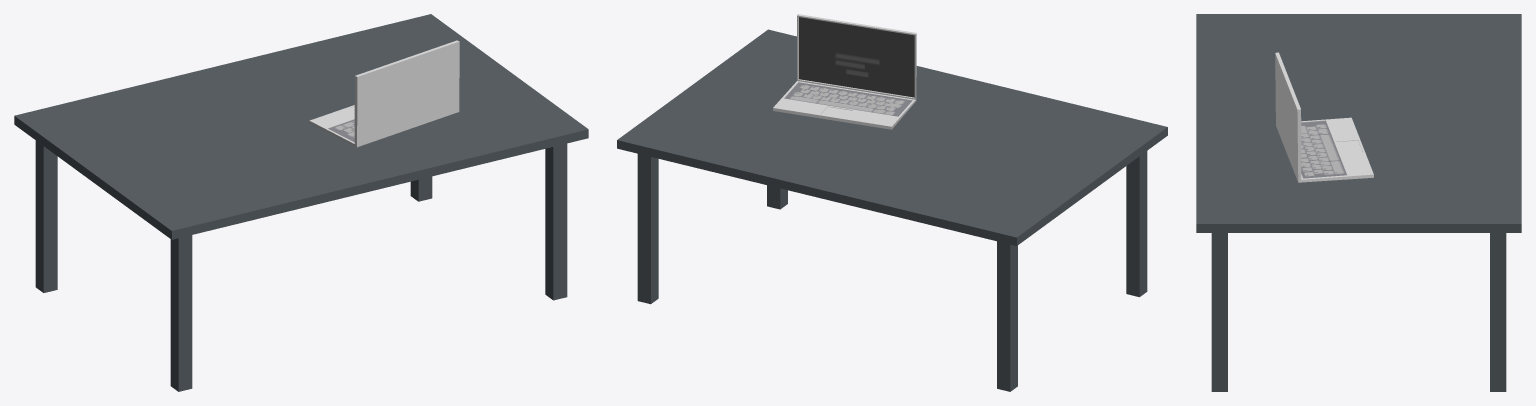
Rendered from Table.fbx.
3 renders of one model, left to right at view 1: azimuth 30°, elevation 25°; view 2: azimuth 150°, elevation 25°; view 3: azimuth 270°, elevation 25°, orthographic. The views are drawn at different scales.
Parts seen in each view (by area): view 1: Cube.002; view 2: Cube.002; view 3: Cube.002.
Part boxes in pixels (x1,y1,x2,y2): Cube.002: (14, 14, 588, 391); Cube.002: (617, 14, 1167, 391); Cube.002: (1196, 14, 1521, 391).
Bounding box in the file's own units: 306 × 169 × 200.
